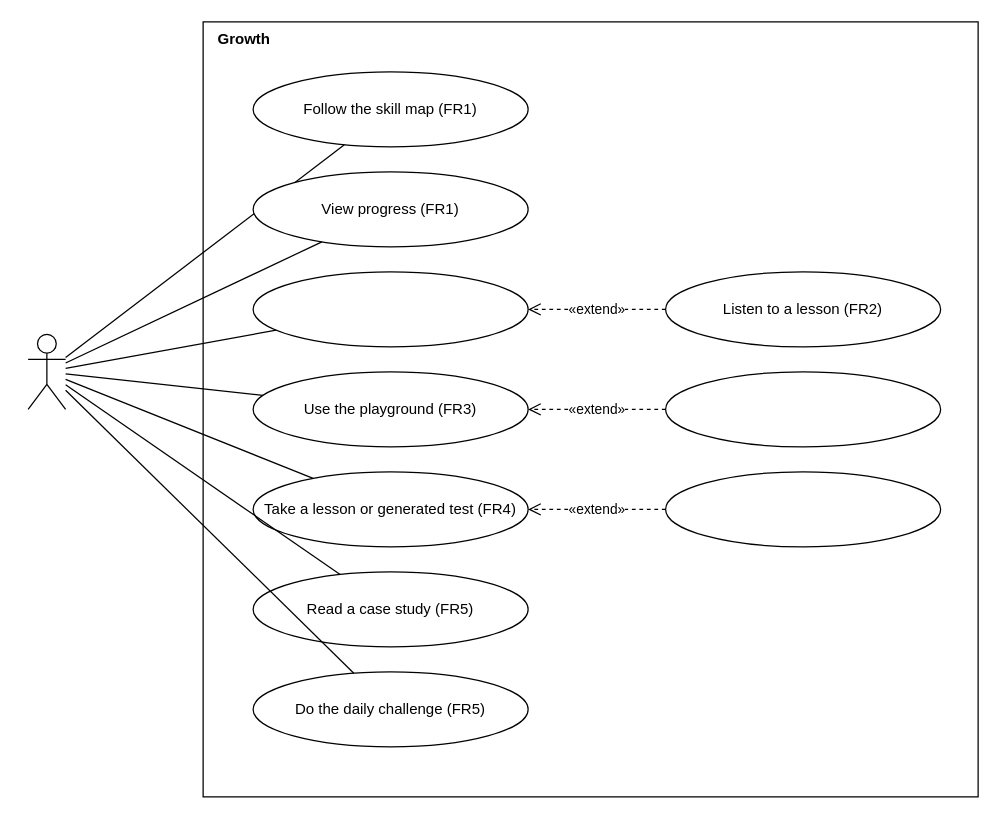
Image size: 1000x819. Some labels were removed from this diagram. Each missing label, with the centre of its shape:
"Get scaffolding hints (FR4)" goes at (802,509).
"Read a lesson (FR2)" goes at (390,309).
"Step through the code trace (FR3)" goes at (802,409).
"Student" goes at (46,371).
